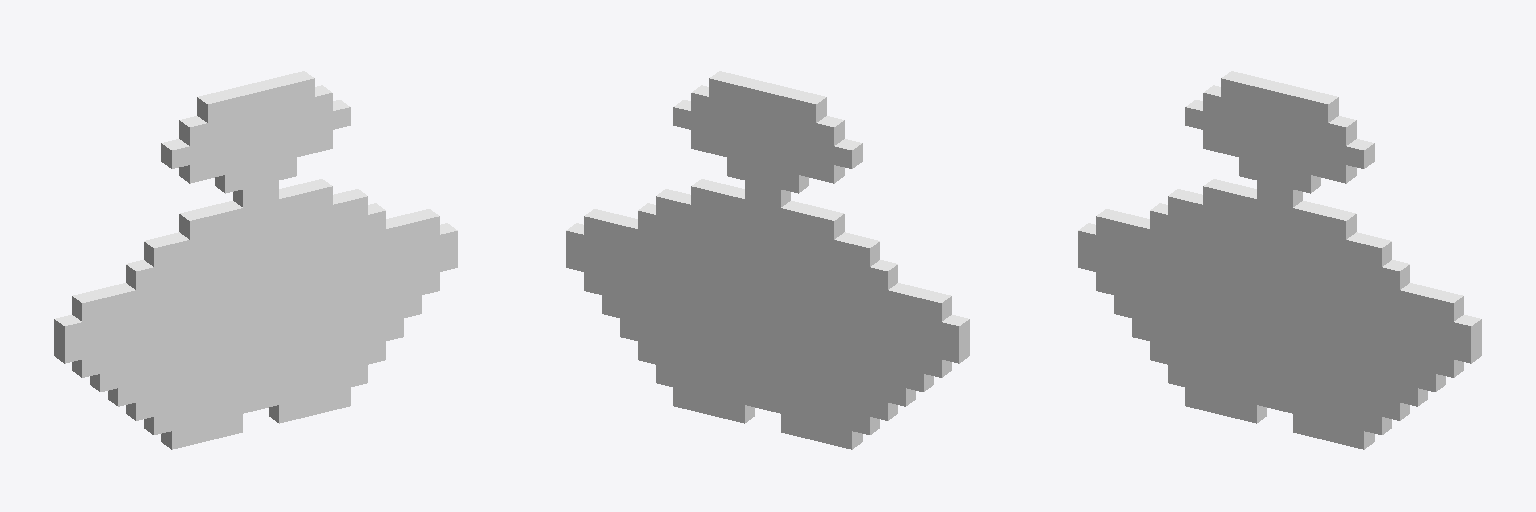
Rendered from deathbear.obj.
3 views of the same model, side by side, from view 1: azimuth 30°, elevation 25°; view 2: azimuth 150°, elevation 25°; view 3: azimuth 330°, elevation 25° (orthographic).
Parts seen in each view (by area): view 1: object 1; view 2: object 1; view 3: object 1.
Boxes of the visible parts, <box> form: object 1: <box>54,71,457,449</box>; object 1: <box>566,71,969,449</box>; object 1: <box>1078,71,1481,449</box>.
Bounding box in the file's own units: 2.2 × 1.8 × 0.1.